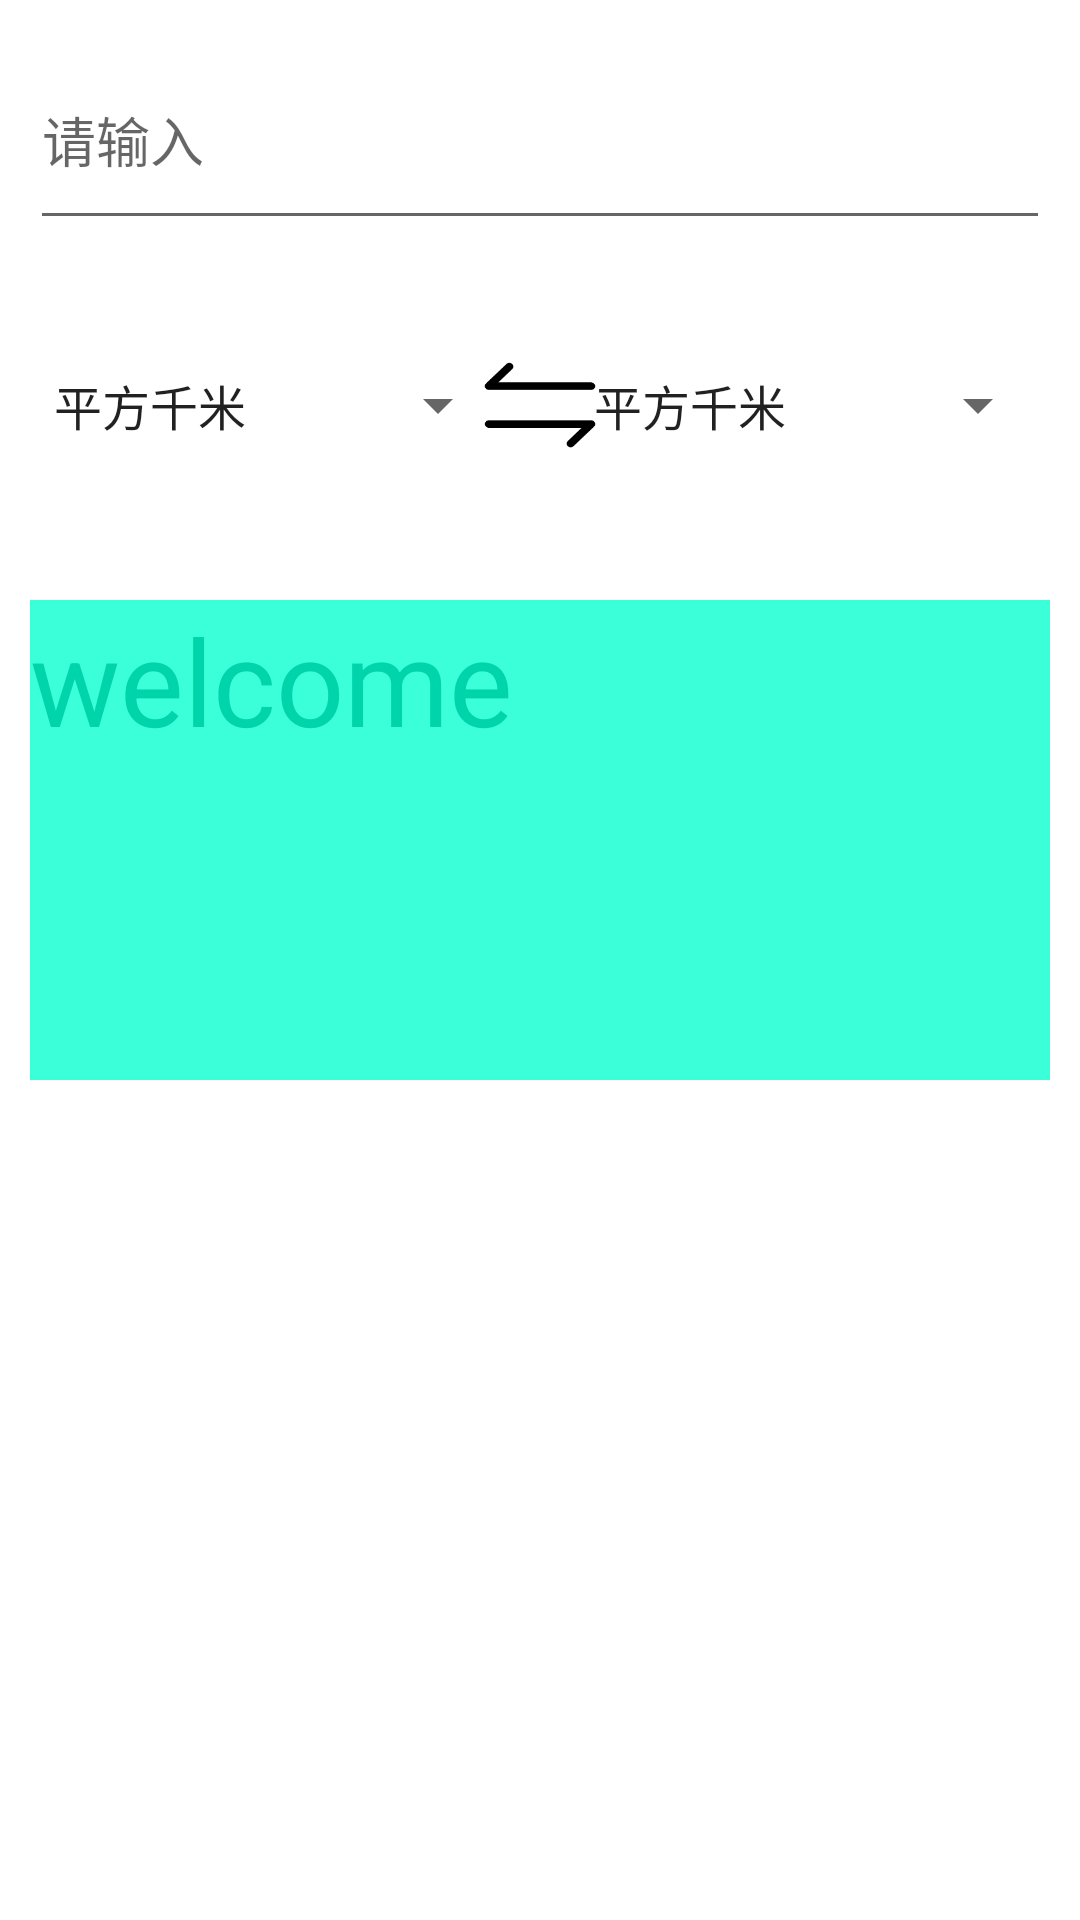

Where to tap for icons on this 1080px x 1920px app screen, as (x,y):
change: (540,405)
